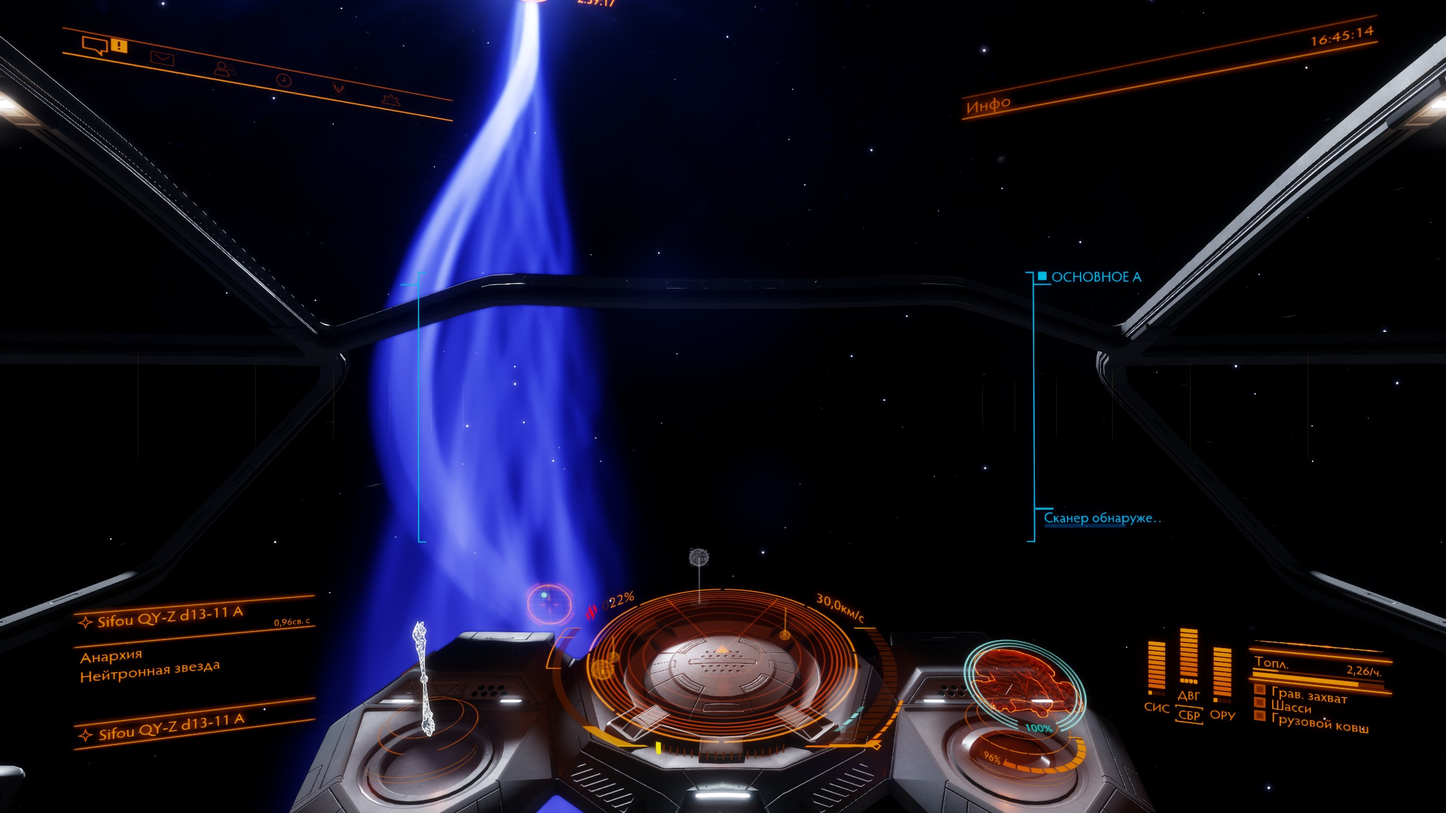jetcone: (381, 0, 595, 667), (1281, 90, 1400, 185)
